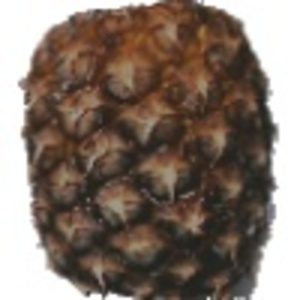abacaxi: (17, 2, 275, 294)
